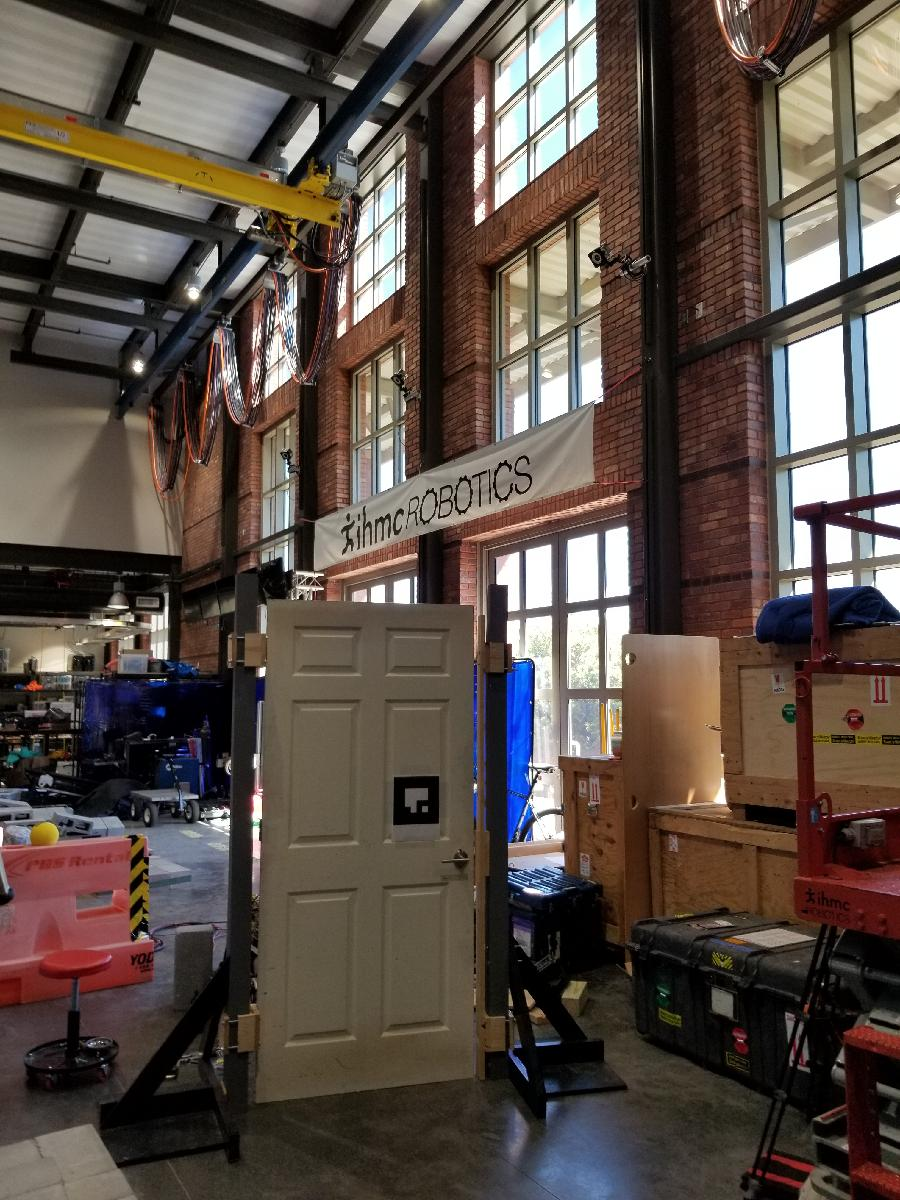door: (252, 593, 485, 1108)
doorHandle: (438, 848, 473, 871)
